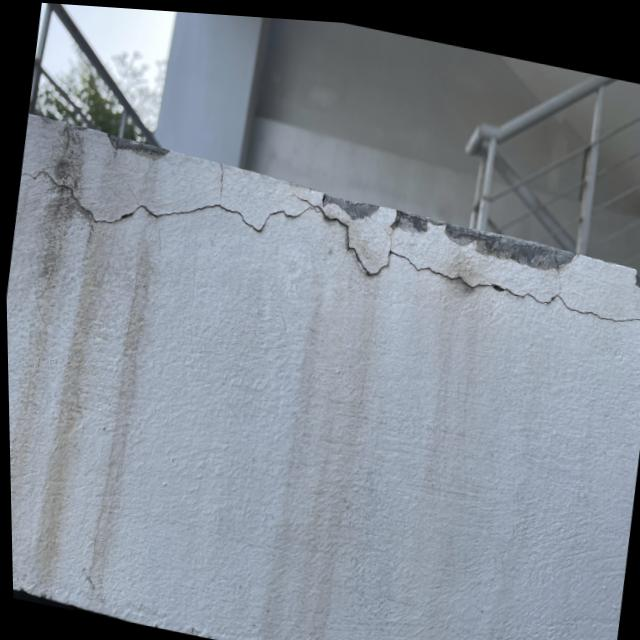Crack: (28, 115, 640, 351)
